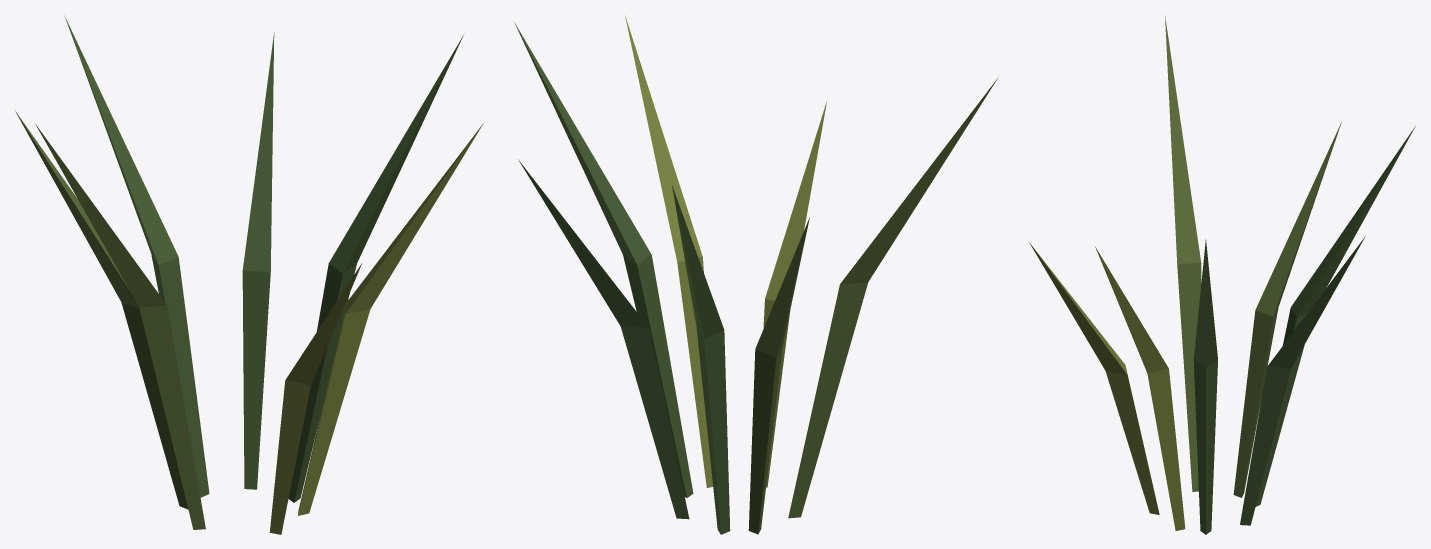
The model's file is env-reeds-0.glb.
The picture shows the model from 3 angles, left to right: view 1: azimuth 30°, elevation 25°; view 2: azimuth 150°, elevation 25°; view 3: azimuth 270°, elevation 25°; orthographic projection. The views are drawn at different scales.
Visible parts, largest first — view 1: env-reeds-0; view 2: env-reeds-0; view 3: env-reeds-0.
Part boxes in pixels (left/top/right/bottom): env-reeds-0: left=15, top=16, right=483, bottom=534; env-reeds-0: left=514, top=15, right=998, bottom=534; env-reeds-0: left=1029, top=15, right=1415, bottom=534.
Bounding box in the file's own units: 1.44 × 1.41 × 1.24.
